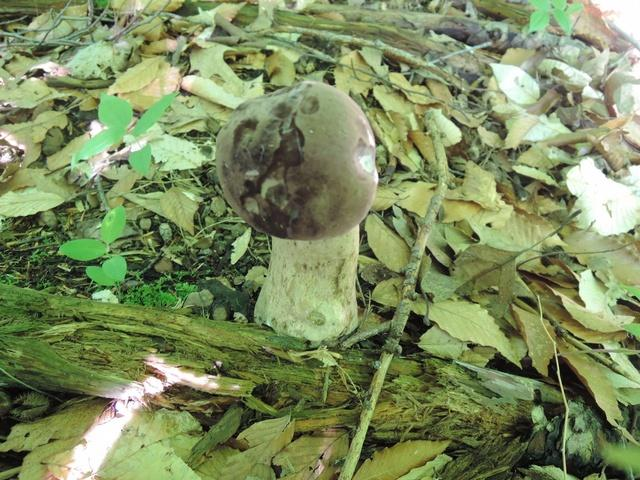poisonous_mushroom: (213, 79, 380, 345)
